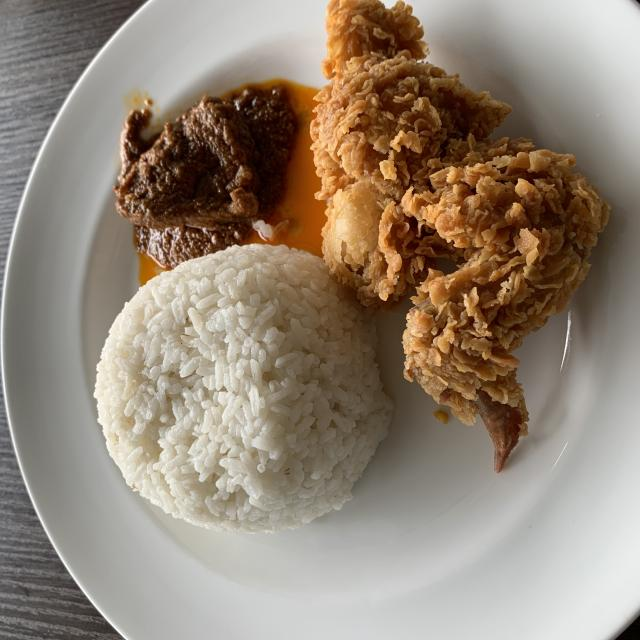Wet Waste: (310, 0, 606, 465), (91, 240, 382, 529), (113, 81, 301, 269)
